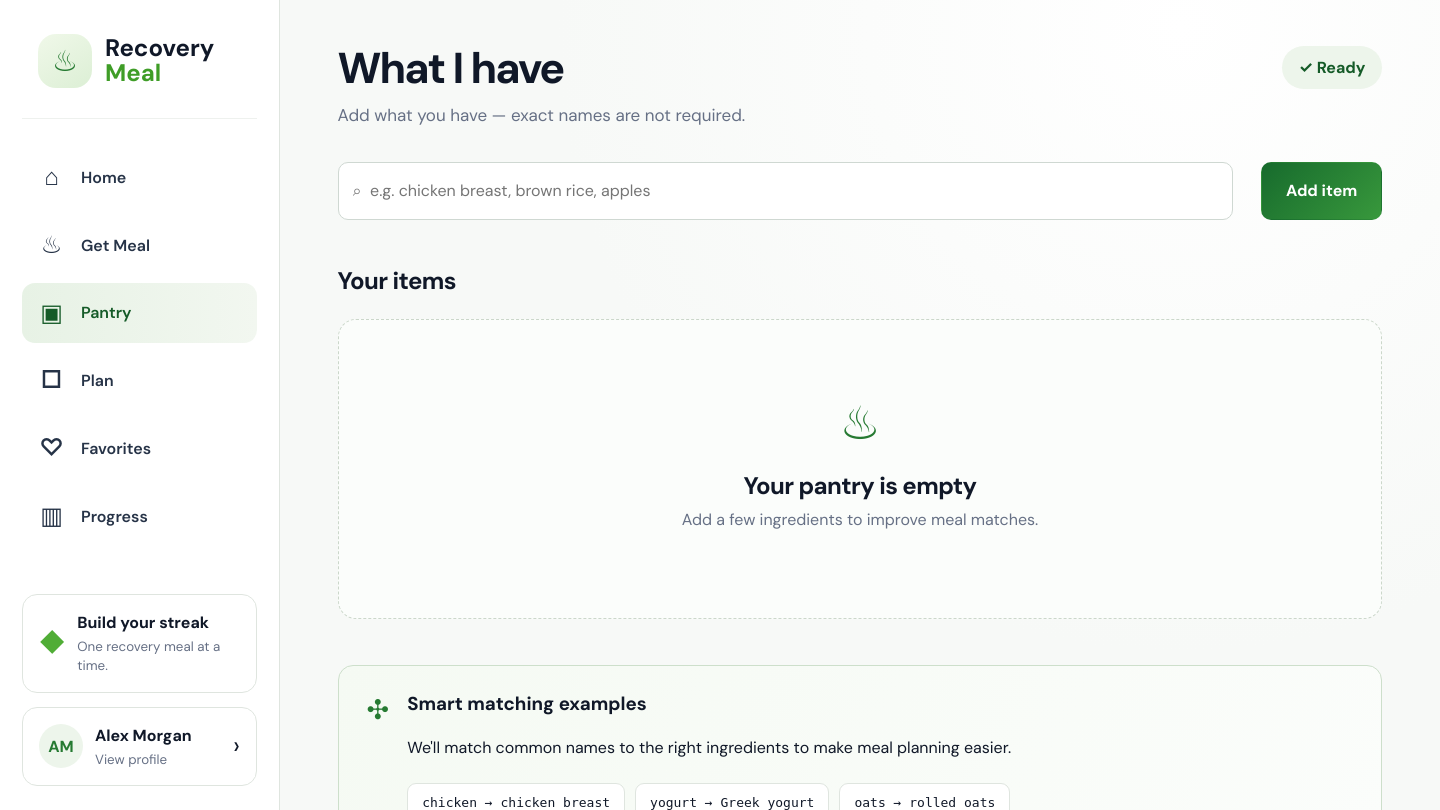
Test: Recovery Meal V2 › adds pantry items through the shared backend API
Expected: the heading "Your pantry is empty" is shown, [744, 469, 976, 504]
Type "Brown rice" into the field with placeholder "⌕ e.g. chicken breast, brown rice, apples" at (785, 191), box [338, 162, 1233, 220]
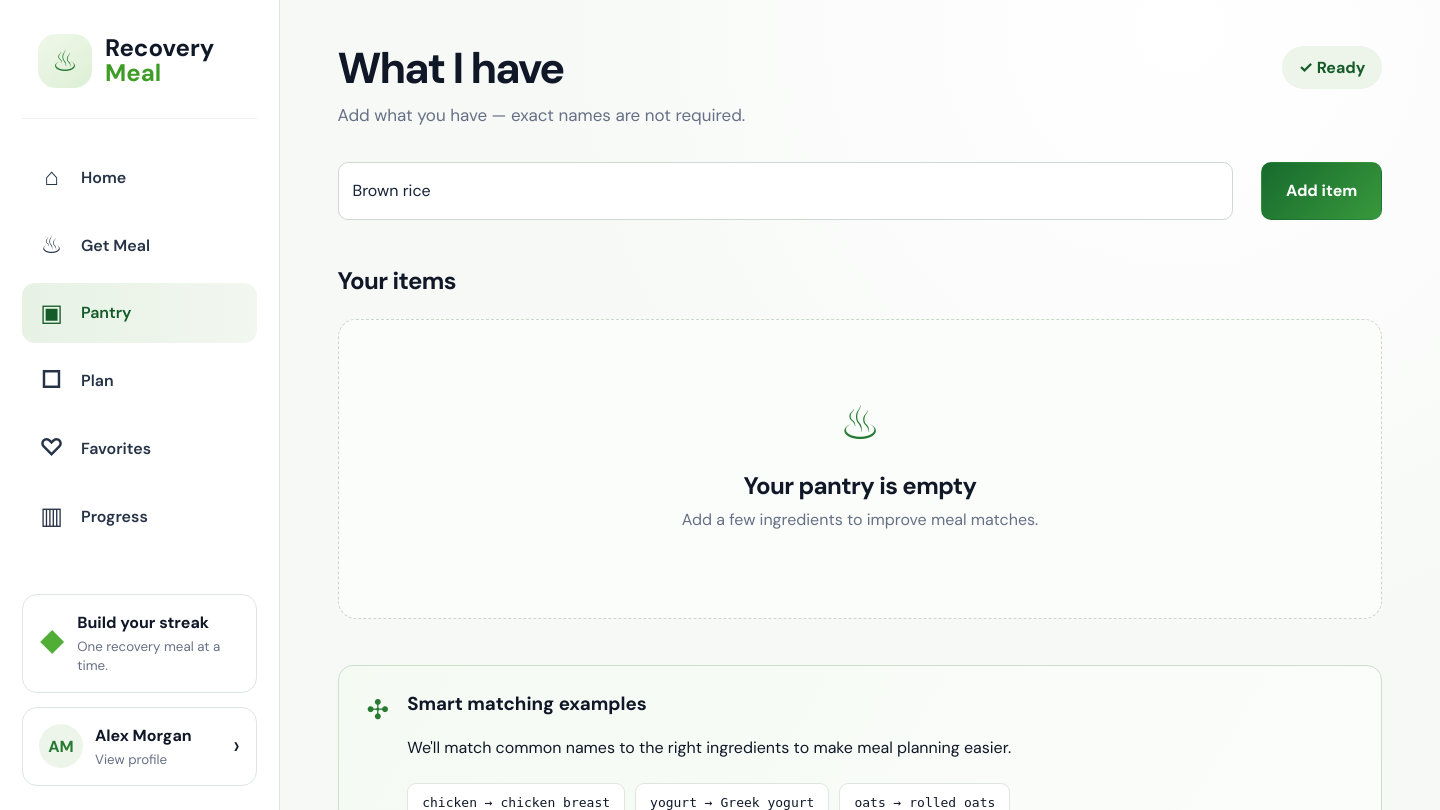
Click the button "Add item" at (1322, 191), box [1261, 162, 1382, 220]
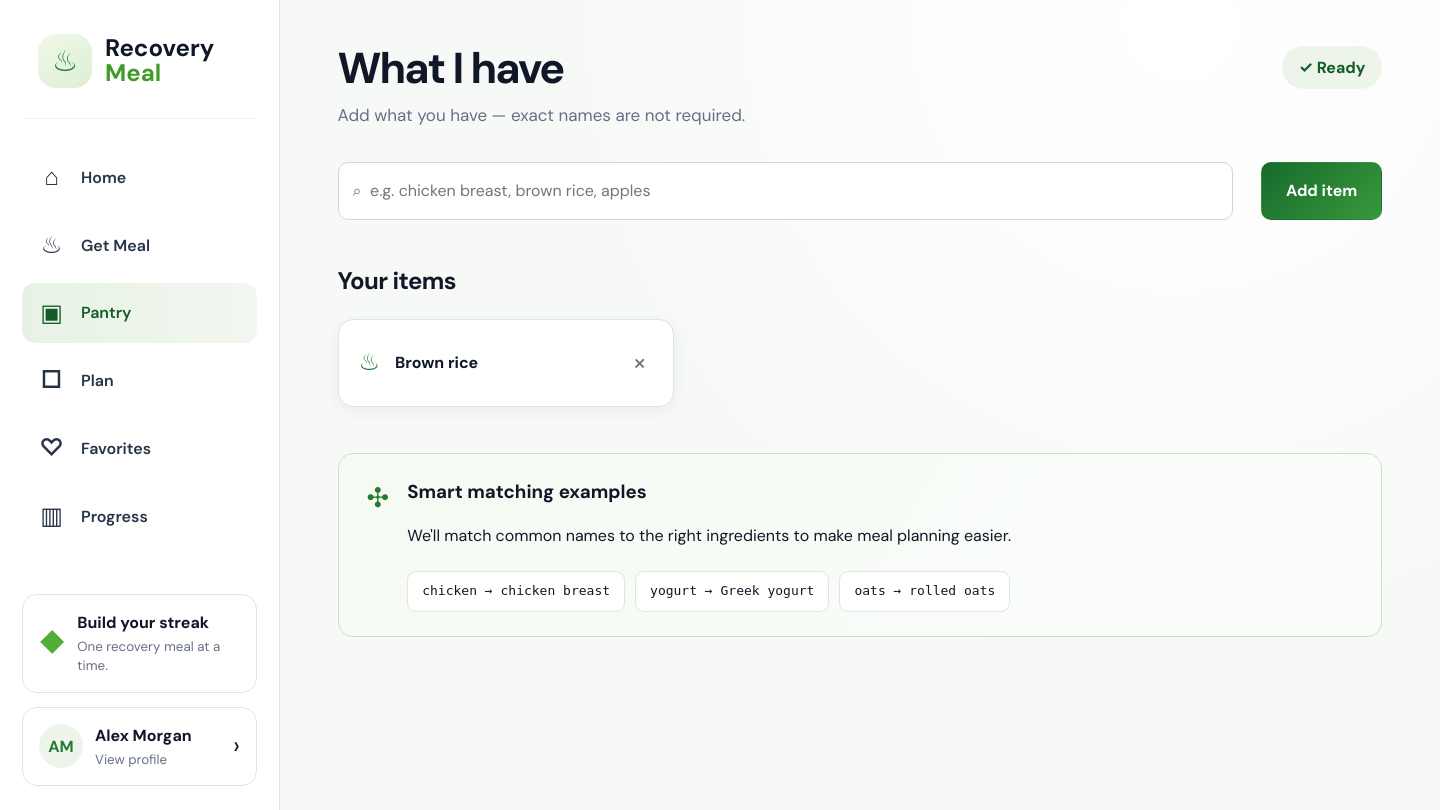
Result: the text "Brown rice" is shown at [395, 351, 478, 374]
